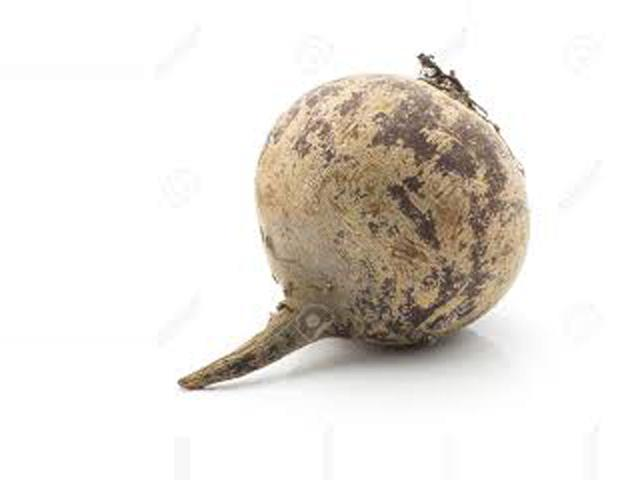beet: (180, 54, 530, 388)
